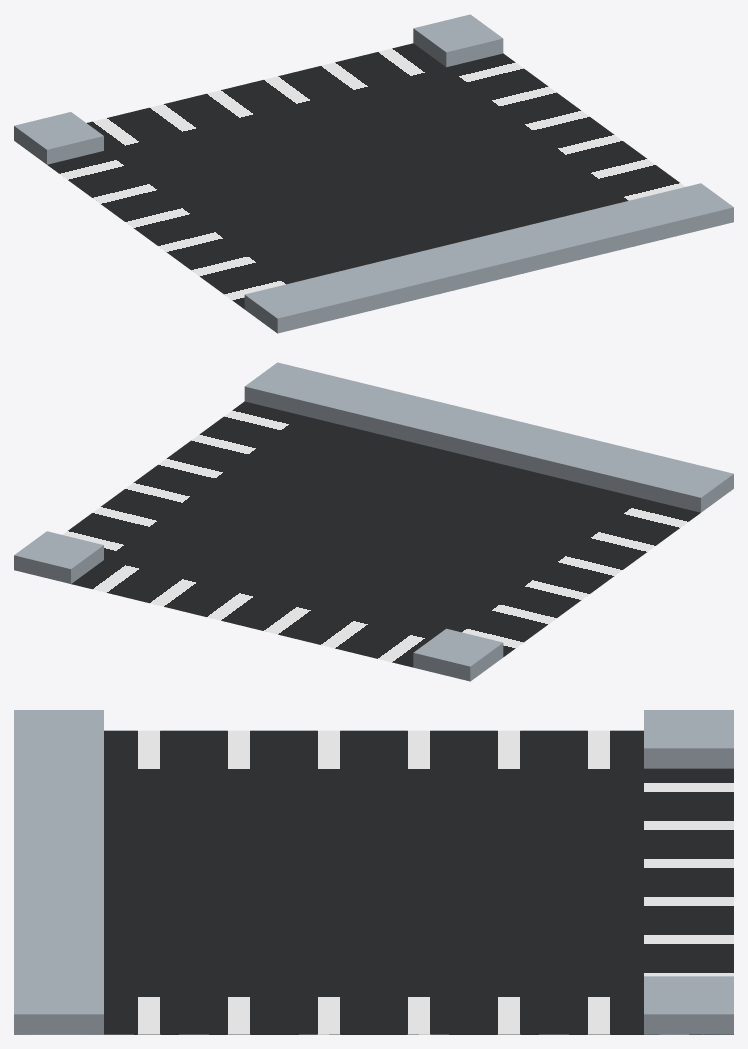
The model's file is Road-_l_.04dac8e2.gltf.
The picture shows the model from 3 angles, top to bottom: view 1: azimuth 30°, elevation 25°; view 2: azimuth 150°, elevation 25°; view 3: azimuth 270°, elevation 25°; orthographic projection. The views are drawn at different scales.
Visible parts, largest first — view 1: Road, Sidewalk bottom left, Sidewalk Top right, Sidewalk Top left, Sidewalk bottom right; view 2: Road, Sidewalk bottom left, Sidewalk Top left, Sidewalk Top right, Sidewalk bottom right; view 3: Road, Sidewalk bottom left, Sidewalk Top left, Sidewalk Top right, Sidewalk bottom right.
Part boxes in pixels (<box>): Road: <box>47,43,685,309</box>; Sidewalk bottom left: <box>244,197,676,333</box>; Sidewalk Top right: <box>413,14,503,67</box>; Sidewalk Top left: <box>14,112,103,164</box>; Sidewalk bottom right: <box>644,183,733,235</box>; Road: <box>62,401,700,667</box>; Sidewalk bottom left: <box>301,376,733,512</box>; Sidewalk Top left: <box>413,628,503,681</box>; Sidewalk Top right: <box>14,531,103,583</box>; Sidewalk bottom right: <box>244,362,333,415</box>; Road: <box>14,730,733,1034</box>; Sidewalk bottom left: <box>14,710,103,976</box>; Sidewalk Top left: <box>644,710,733,768</box>; Sidewalk Top right: <box>644,976,733,1034</box>; Sidewalk bottom right: <box>14,976,103,1034</box>.
Size of the model in its own units: 2 by 0.0625 by 2.
Materials: 1 (1 with a texture image).
